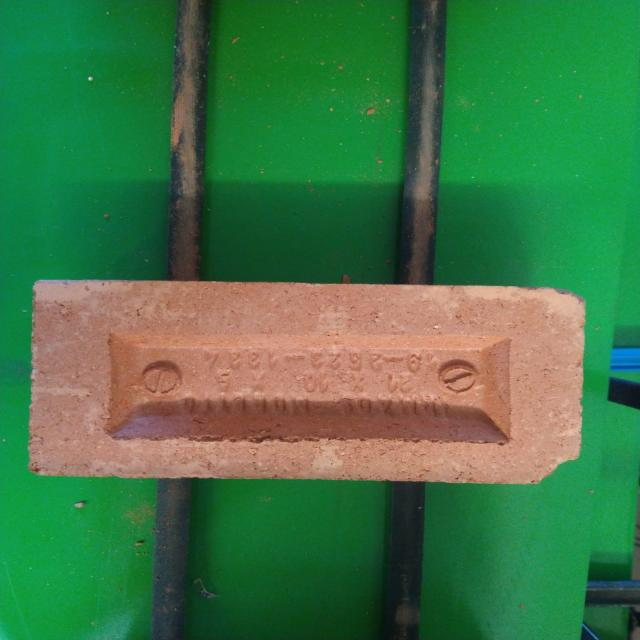bricks_ruin: (31, 281, 585, 485)
